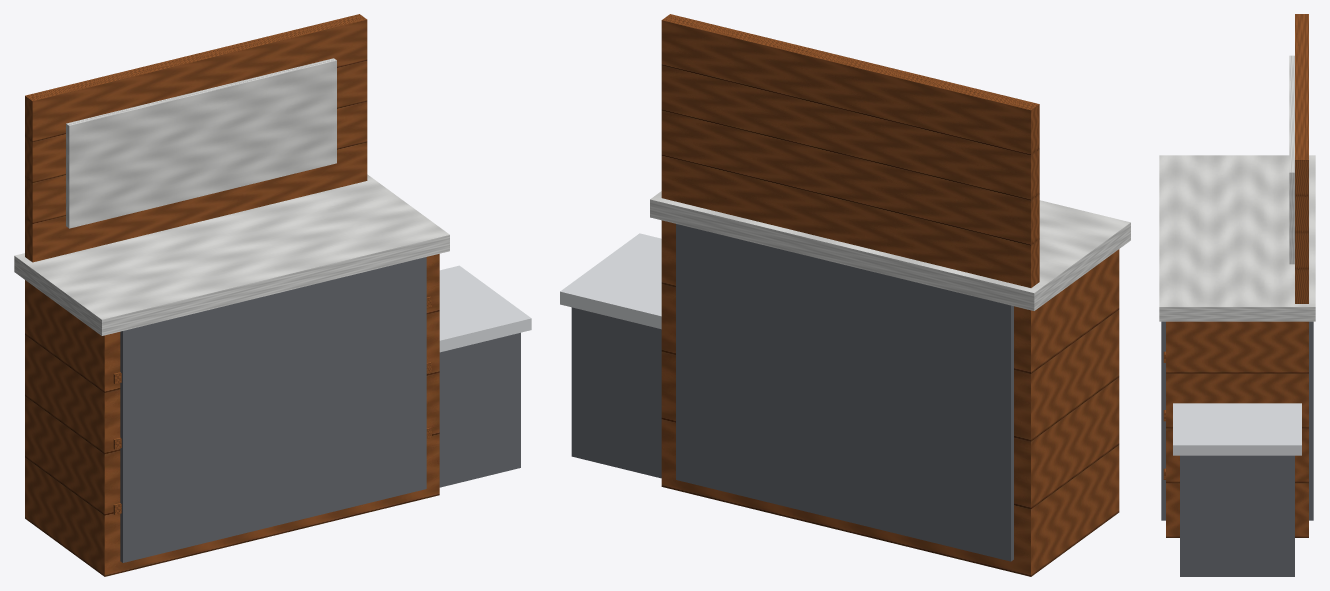
The model's file is cruise-ship-deck-and-lounge-cruise-ship-deck-and-loung-0782ebe7__38438.glb.
3 renders of one model, left to right at view 1: azimuth 30°, elevation 25°; view 2: azimuth 150°, elevation 25°; view 3: azimuth 270°, elevation 25°, orthographic. The views are drawn at different scales.
Visible parts, largest first — view 1: cruise-ship-deck-and-lounge-towel-station; view 2: cruise-ship-deck-and-lounge-towel-station; view 3: cruise-ship-deck-and-lounge-towel-station.
Part boxes in pixels (x1,y1,x2,y2): cruise-ship-deck-and-lounge-towel-station: (14,14,531,576); cruise-ship-deck-and-lounge-towel-station: (560,14,1130,576); cruise-ship-deck-and-lounge-towel-station: (1159,14,1315,576).
Bounding box in the file's own units: 1.96 × 1.81 × 0.6799.
Materials: 4 (2 with a texture image).
